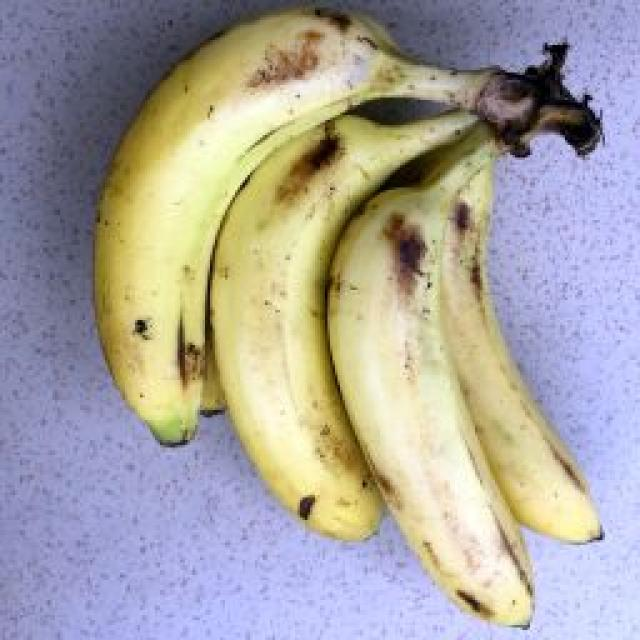banana: (95, 9, 492, 443), (328, 124, 532, 626), (215, 115, 449, 539), (445, 164, 601, 542)
